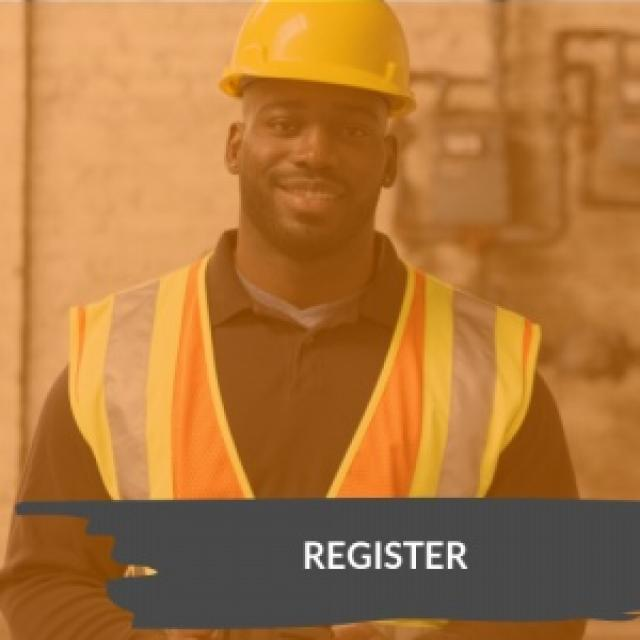Reflective-Jacket: (58, 256, 554, 500)
Safety-Helmet: (217, 0, 422, 116)
